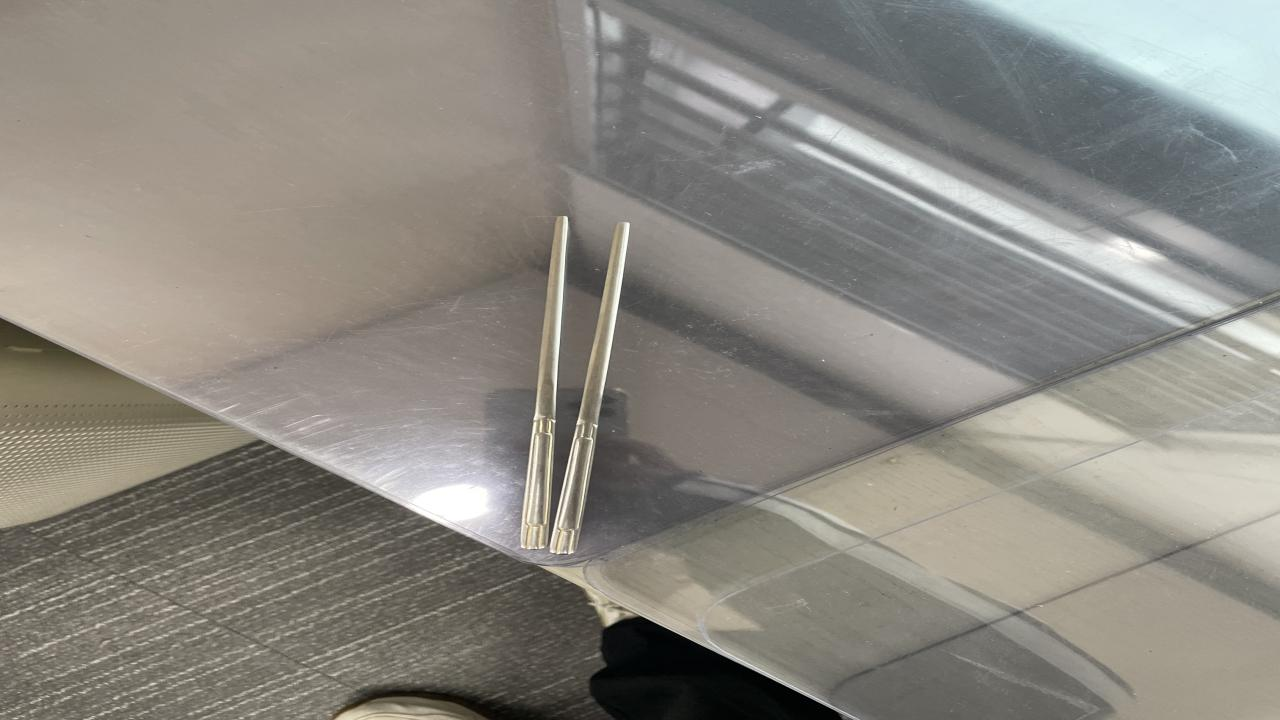chopstick: (516, 215, 636, 551)
